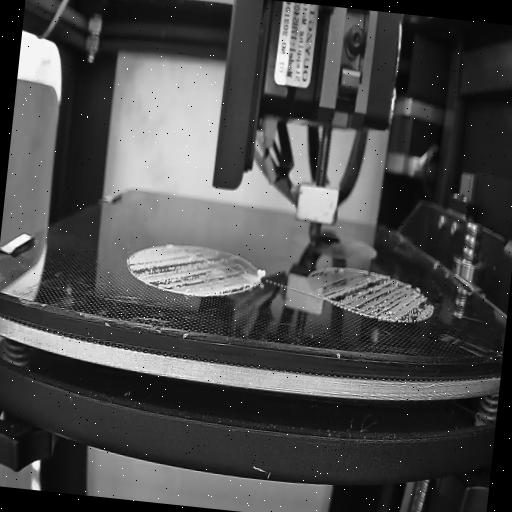under_extrusion: (309, 264, 436, 324), (127, 248, 256, 299)
